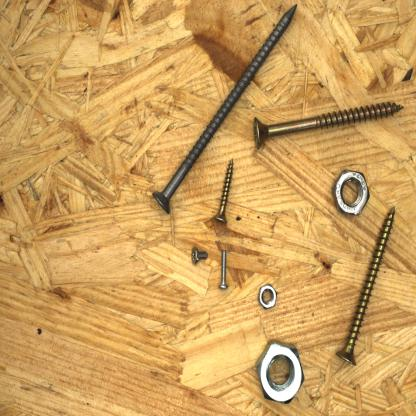screw: (149, 0, 299, 219), (330, 202, 398, 370), (248, 98, 406, 155), (209, 157, 236, 227), (216, 248, 231, 294), (189, 241, 210, 269)
